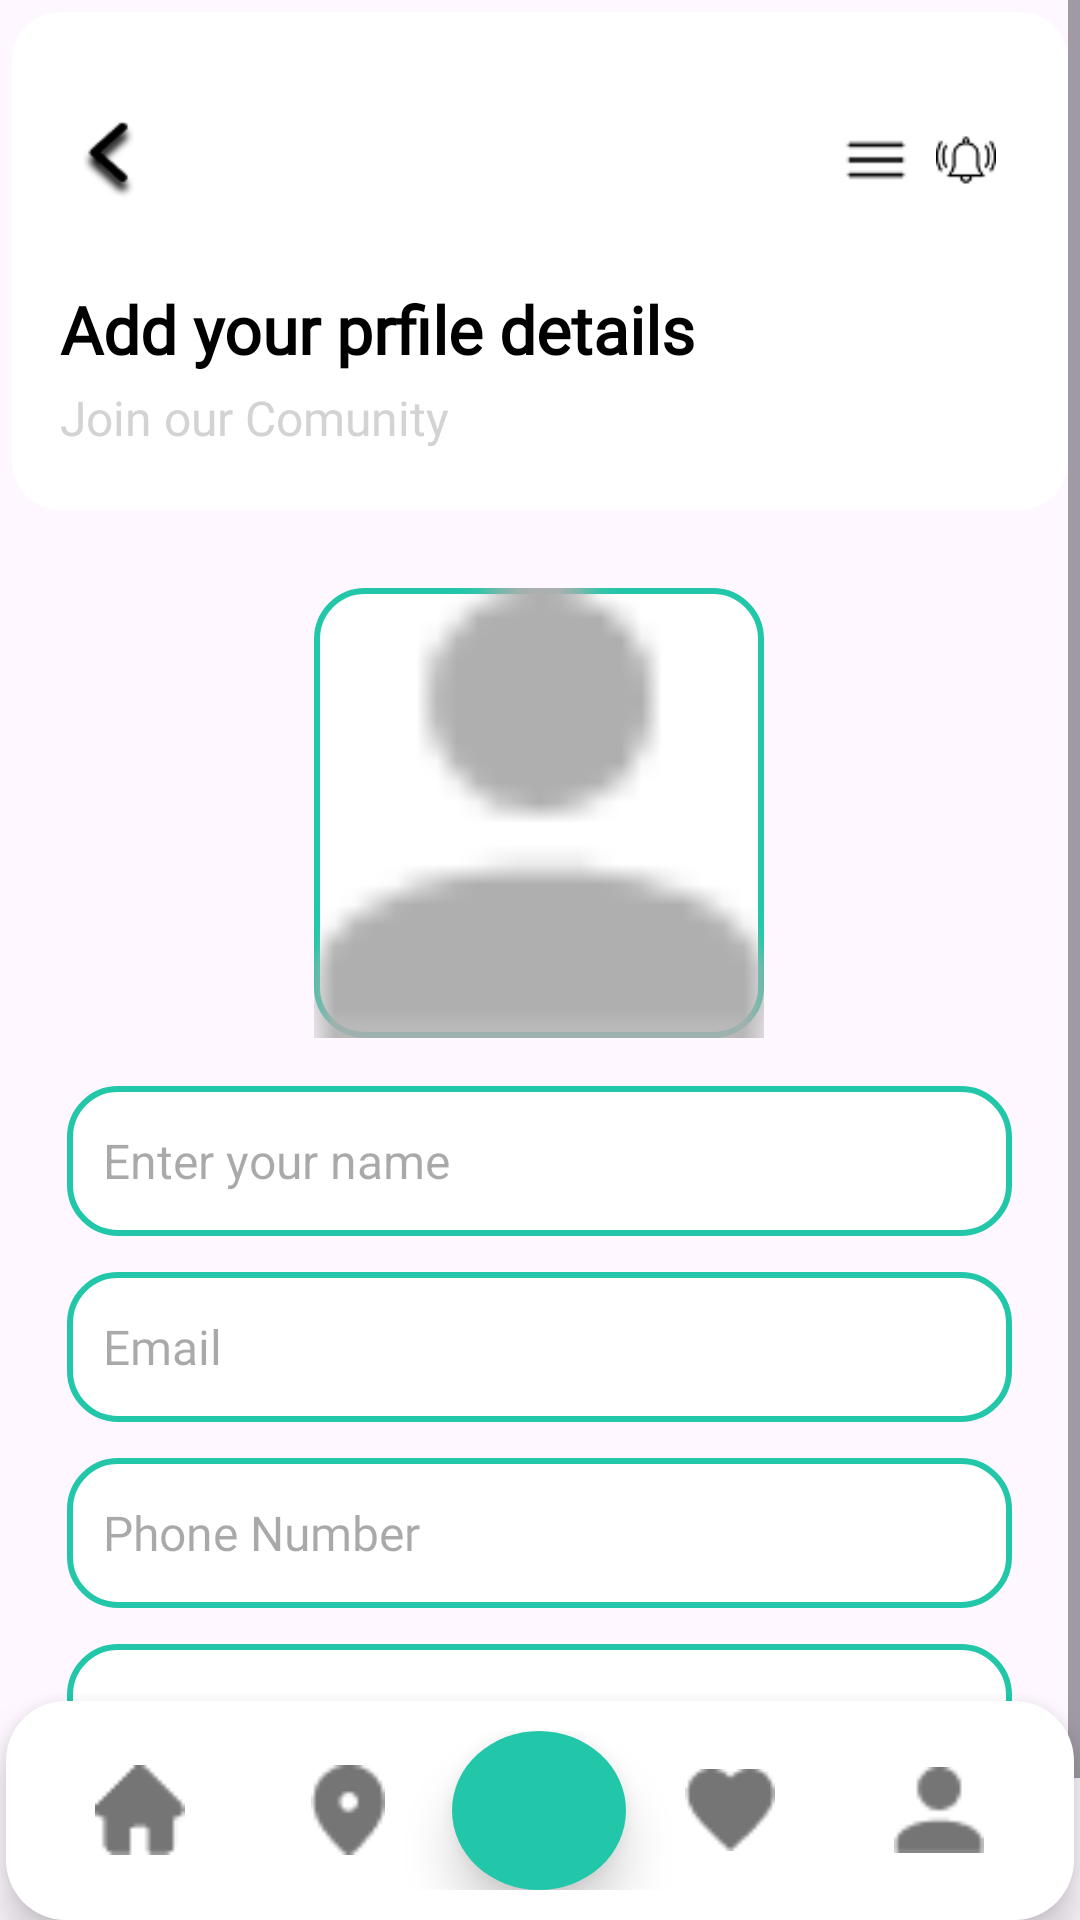

Icon bounding boxes for this 1080px×1920px phone screenshot, format (x1, y1, x2, y2):
back: (86, 122, 131, 194)
favorites: (685, 1769, 775, 1851)
home: (95, 1765, 185, 1855)
location: (311, 1765, 385, 1855)
menu: (846, 141, 906, 179)
notification: (936, 136, 996, 184)
